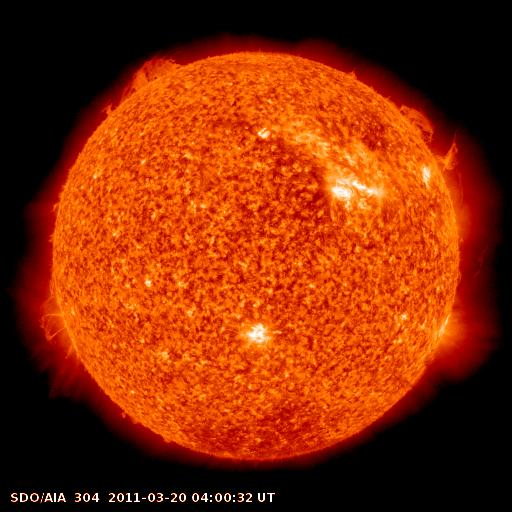prominence: (94, 47, 198, 118), (386, 91, 440, 144), (428, 122, 480, 177)
